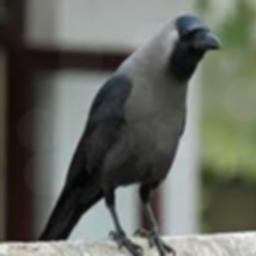Crow: (36, 13, 222, 256)
